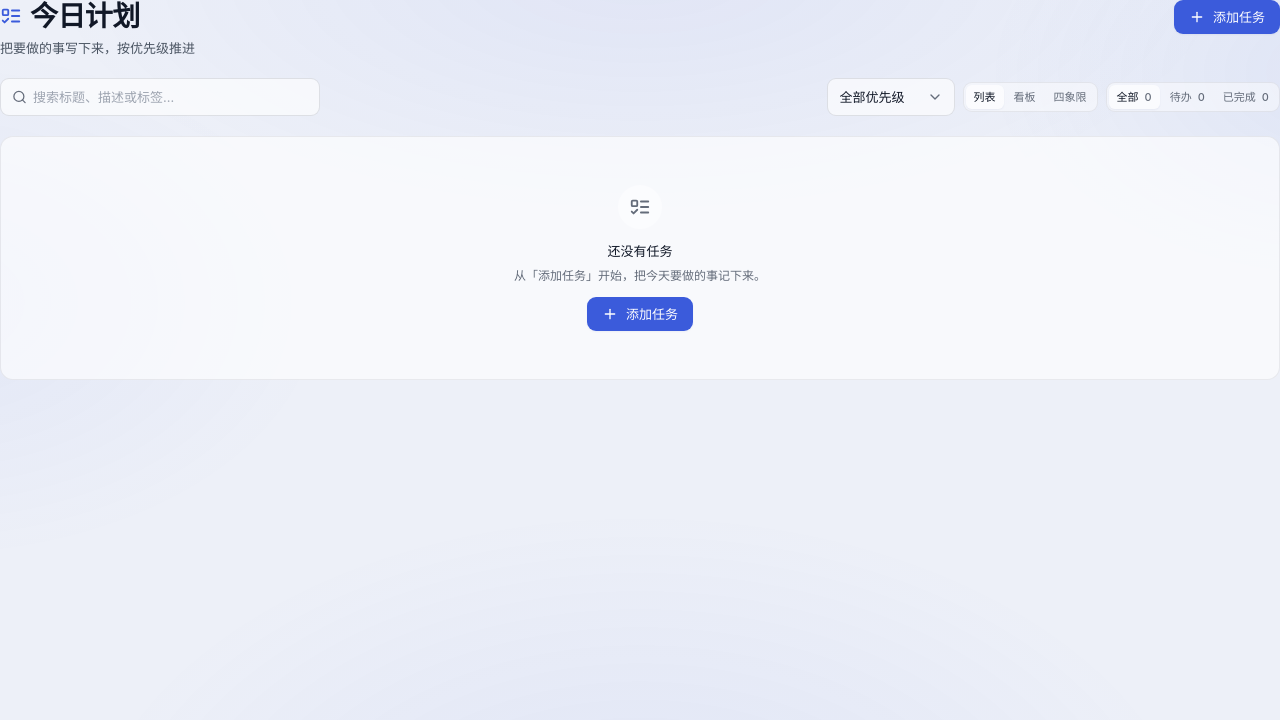
TasksPage › 可以新增任务，标题为空时禁用提交
The width and height of the screenshot is (1280, 720).
Click the button "添加任务" in the row of "今日计划" at (1227, 17), box [1174,0,1279,34]
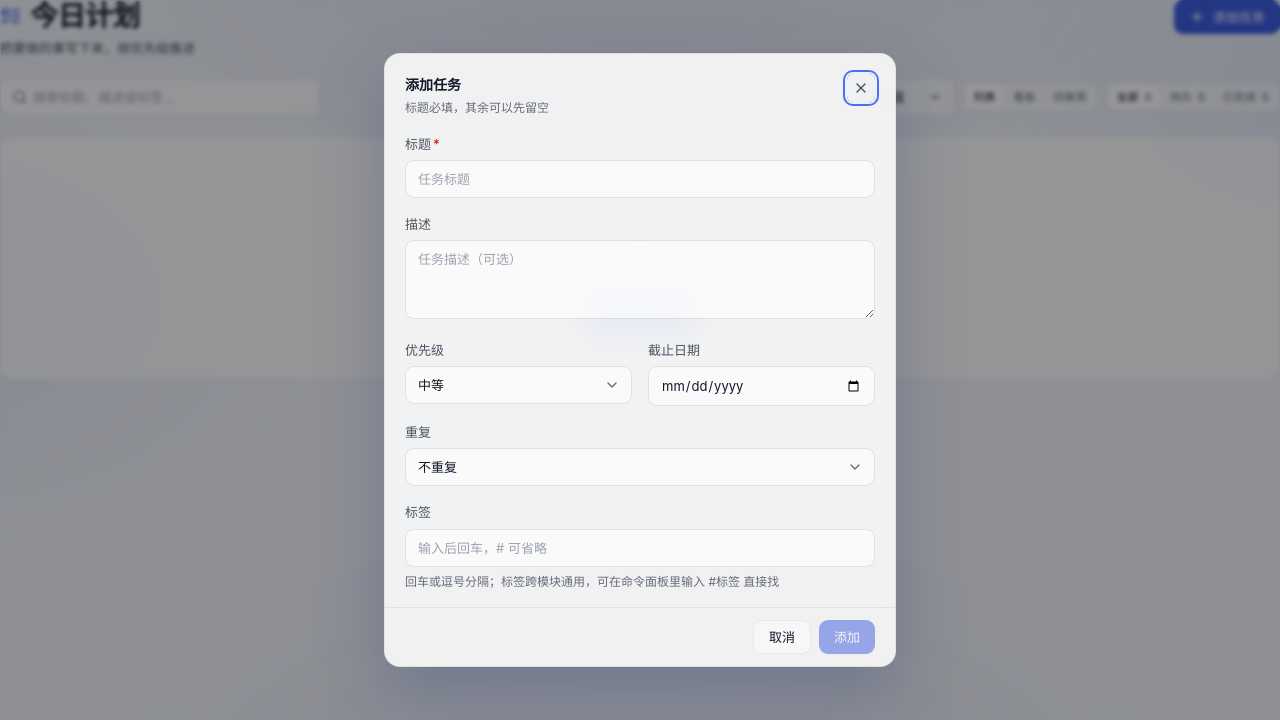
Expected: the button "添加" is disabled, [819,620,875,654]
Type "写周报" into the field labelled "标题*" at (640, 179), box [405,160,875,198]
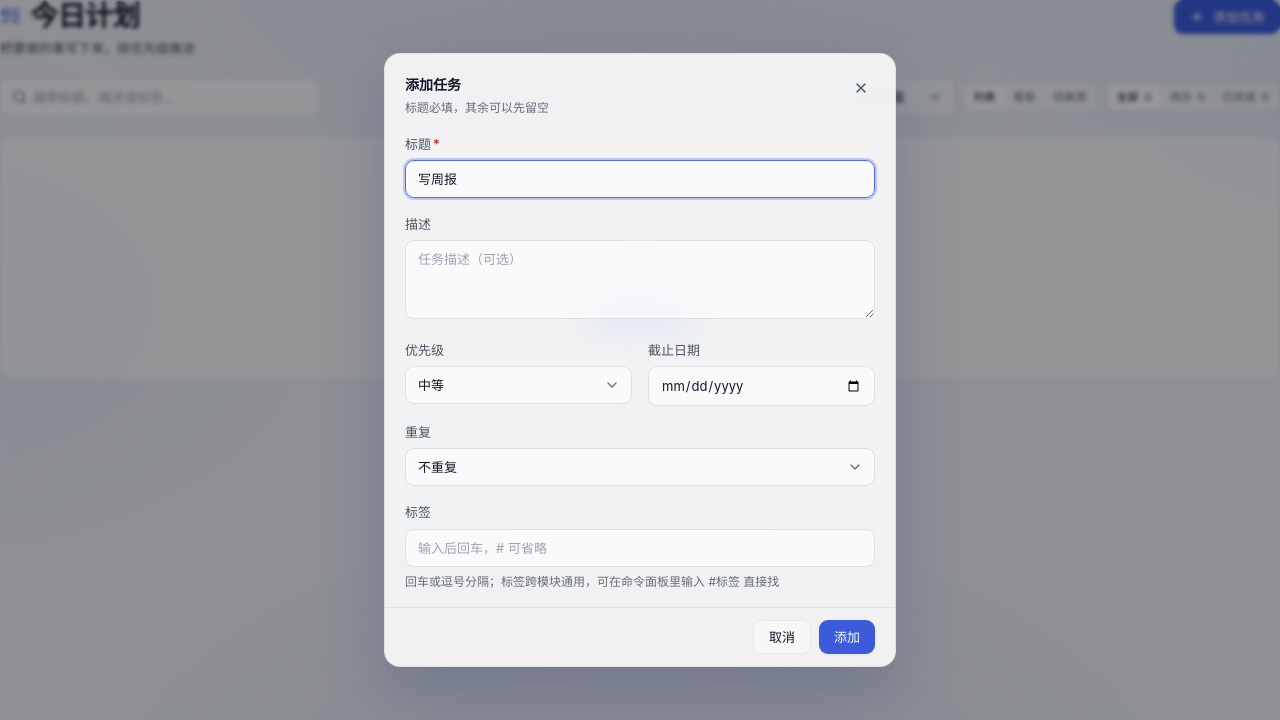
Click the button "添加" at (847, 637), box [819,620,875,654]
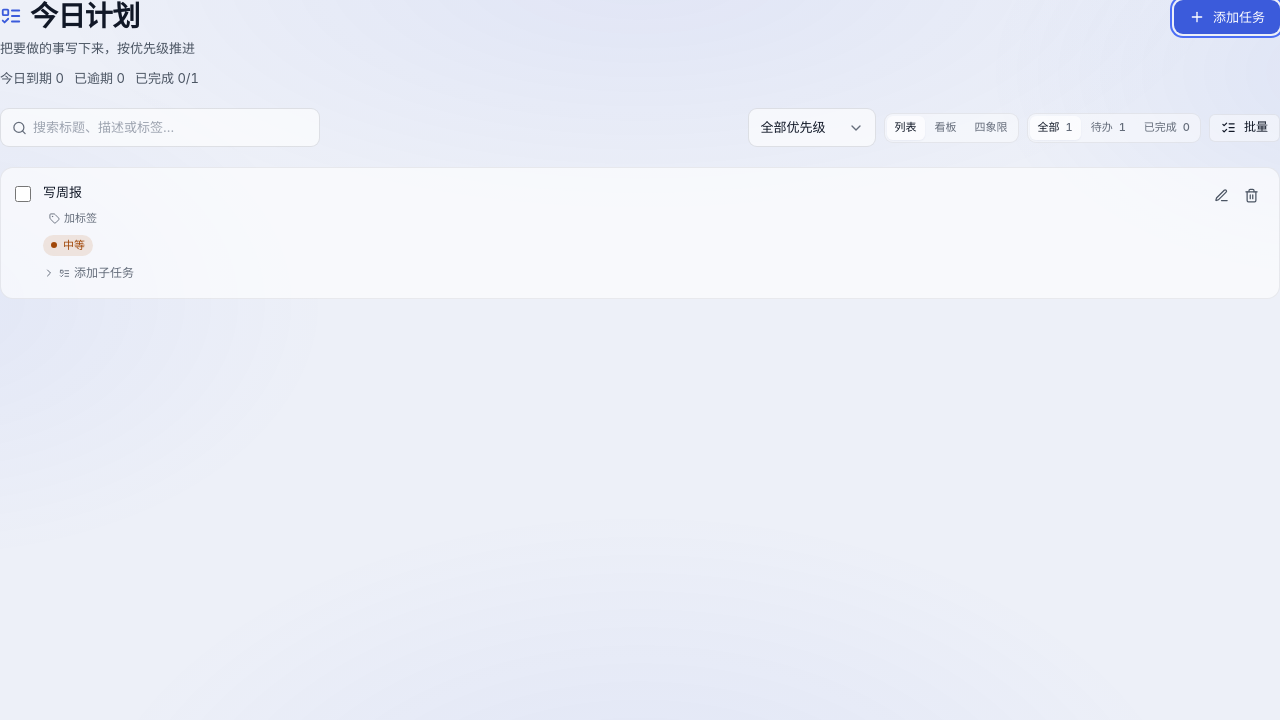
Expected: the button "写周报" is shown, [43,182,82,202]
